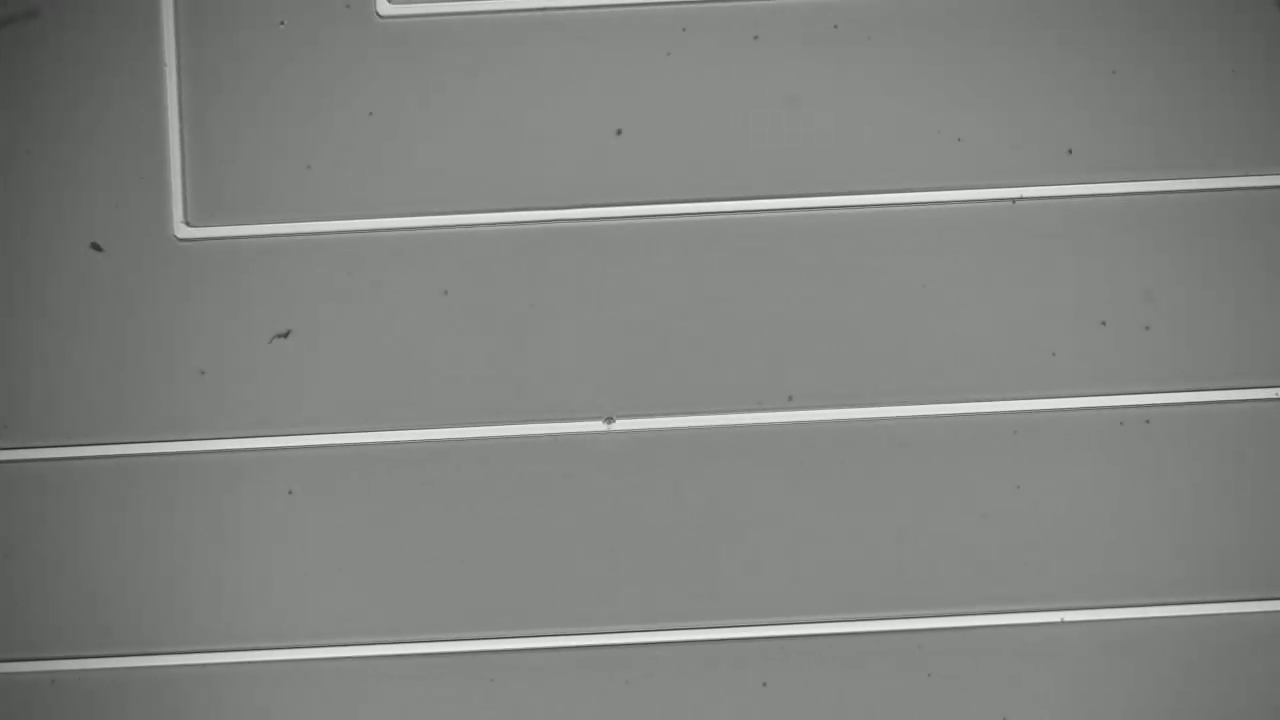stains_enbedded: (595, 407, 625, 442)
